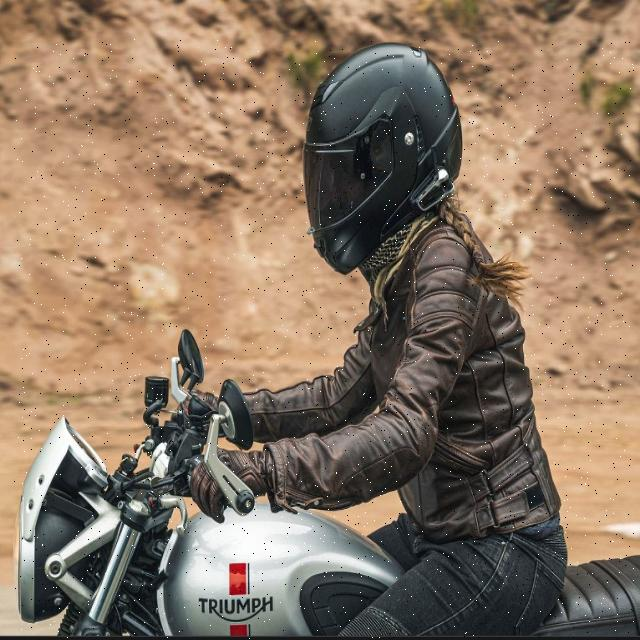With Helmet: (15, 39, 634, 639)
